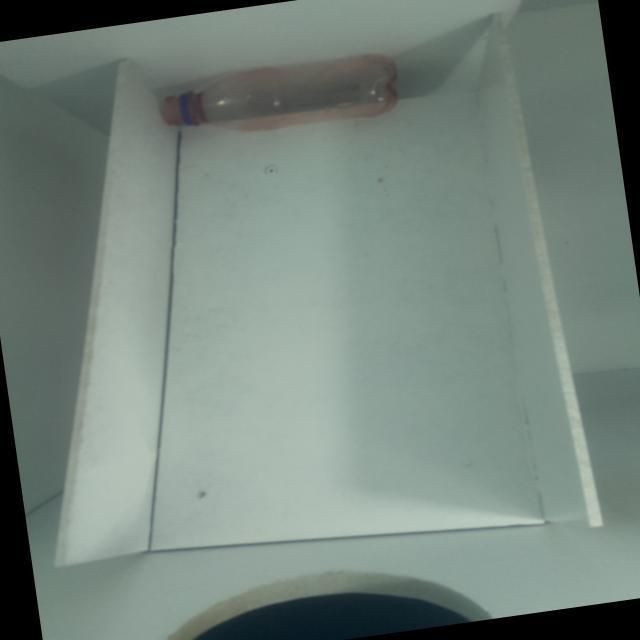good: (122, 29, 431, 162)
